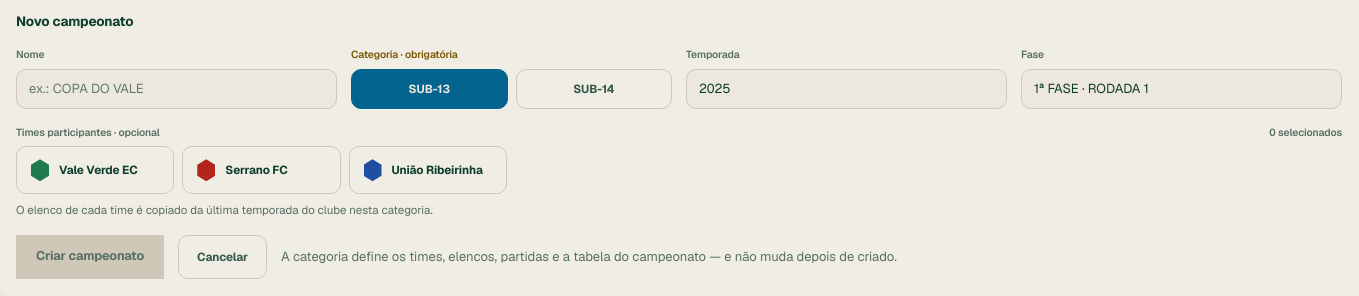
Test case: NewChampionshipPanel › hides the missing name warning after the toast duration even when the form rerenders meanwhile
This screenshot has width=1359, height=296.
Click the button "Criar campeonato": (90, 257) [16,235,164,279]
Wait 2000 ms
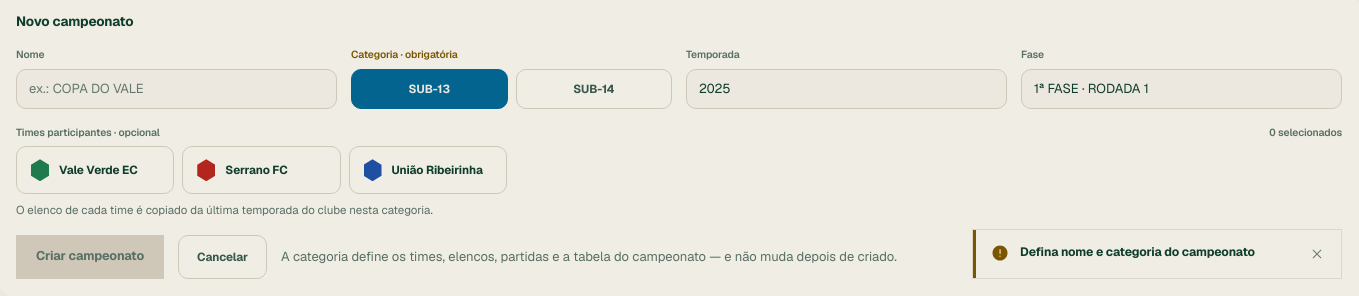
Click the button "SUB-14": (594, 89) [516,69,672,109]
Wait 1800 ms
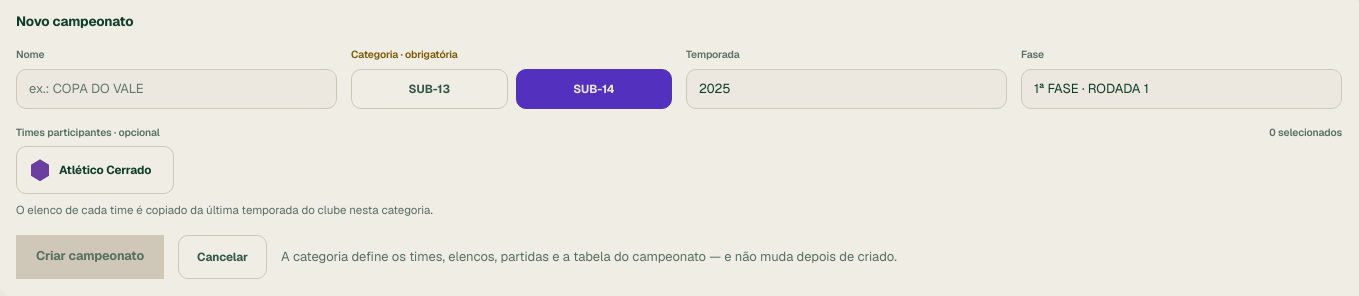
Now the message "Defina nome e categoria do campeonato" is gone
